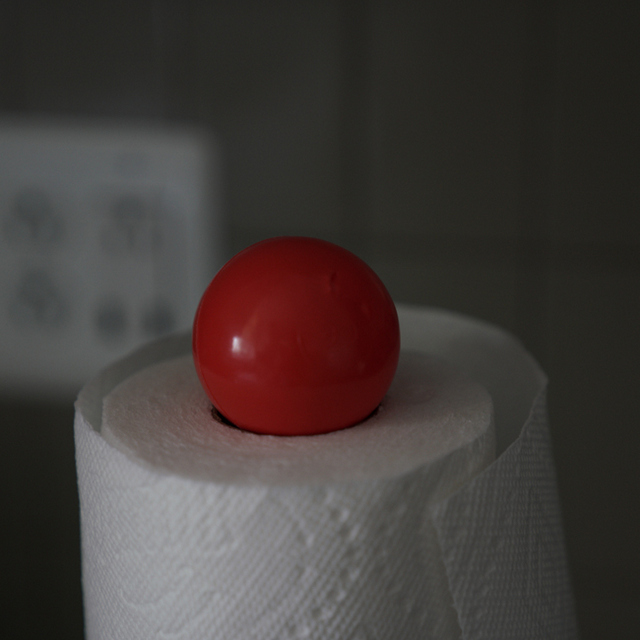Ball: (200, 241, 401, 429)
